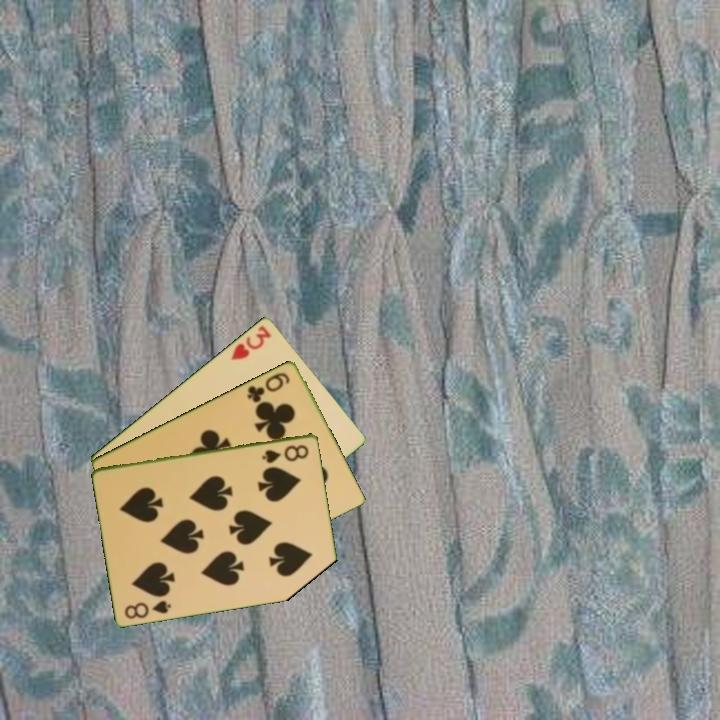3h: (227, 321, 274, 363)
6c: (243, 368, 293, 405)
8s: (121, 596, 174, 622), (259, 441, 312, 466)
